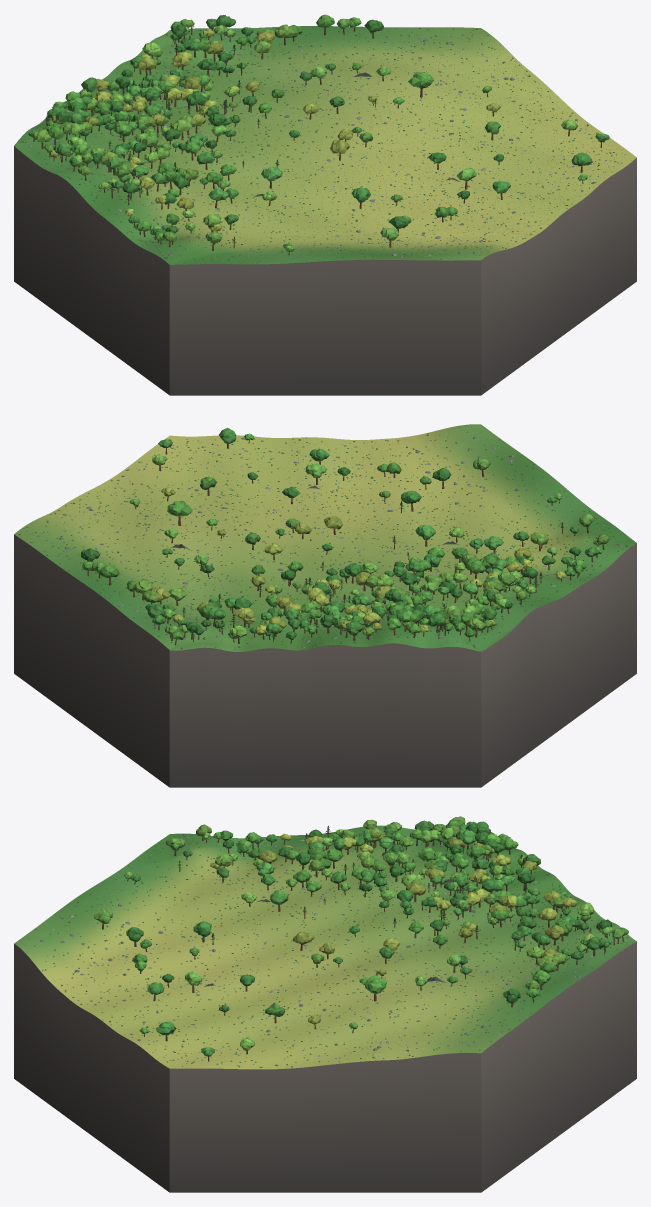
3 views of the same model, one above another, from view 1: azimuth 30°, elevation 25°; view 2: azimuth 150°, elevation 25°; view 3: azimuth 270°, elevation 25° (orthographic).
Parts seen in each view (by area): view 1: terrain, hex_side_cut, broadleaf_canopy, shrubs, wildflowers, trunks, boulders; view 2: hex_side_cut, terrain, broadleaf_canopy, shrubs, trunks, boulders, wildflowers; view 3: terrain, hex_side_cut, broadleaf_canopy, shrubs, trunks, boulders.
Boxes of the visible parts, bbox=[...] form: terrain: bbox=[14, 26, 636, 264]; hex_side_cut: bbox=[14, 146, 636, 395]; broadleaf_canopy: bbox=[28, 14, 609, 251]; shrubs: bbox=[20, 26, 625, 263]; wildflowers: bbox=[18, 27, 630, 263]; trunks: bbox=[33, 21, 601, 255]; boulders: bbox=[29, 28, 606, 261]; hex_side_cut: bbox=[14, 534, 636, 787]; terrain: bbox=[14, 424, 636, 651]; broadleaf_canopy: bbox=[81, 427, 609, 639]; shrubs: bbox=[19, 426, 631, 649]; trunks: bbox=[87, 440, 604, 645]; boulders: bbox=[37, 436, 622, 648]; wildflowers: bbox=[30, 430, 628, 647]; terrain: bbox=[14, 825, 636, 1069]; hex_side_cut: bbox=[14, 941, 636, 1192]; broadleaf_canopy: bbox=[93, 816, 628, 1056]; shrubs: bbox=[24, 827, 628, 1067]; trunks: bbox=[102, 826, 624, 1061]; boulders: bbox=[40, 835, 616, 1065].
Bounding box in the file's own units: 4330 × 1453 × 5000.
